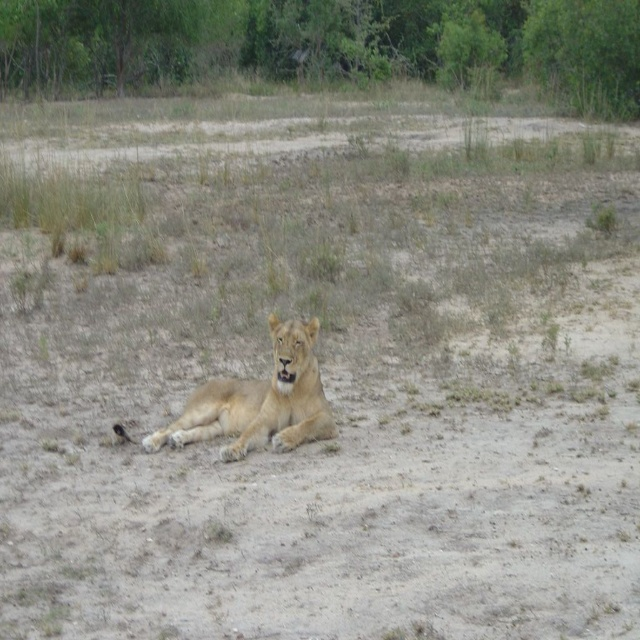Lion: (113, 312, 339, 464)
